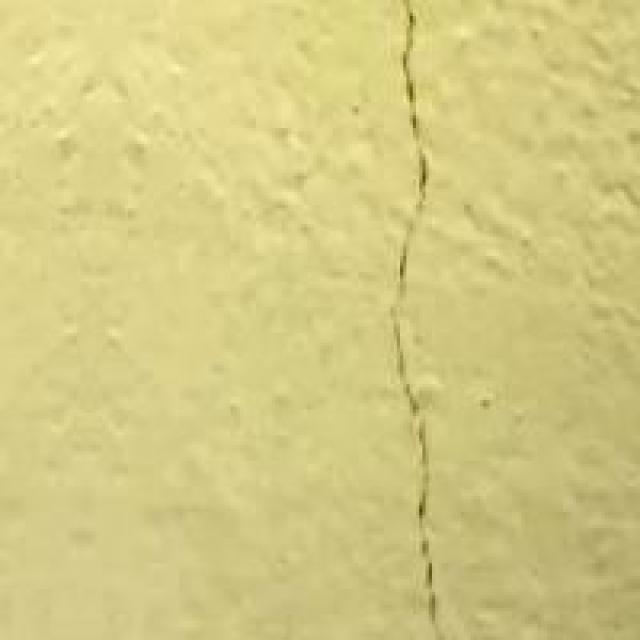Crack: (346, 0, 478, 640)
